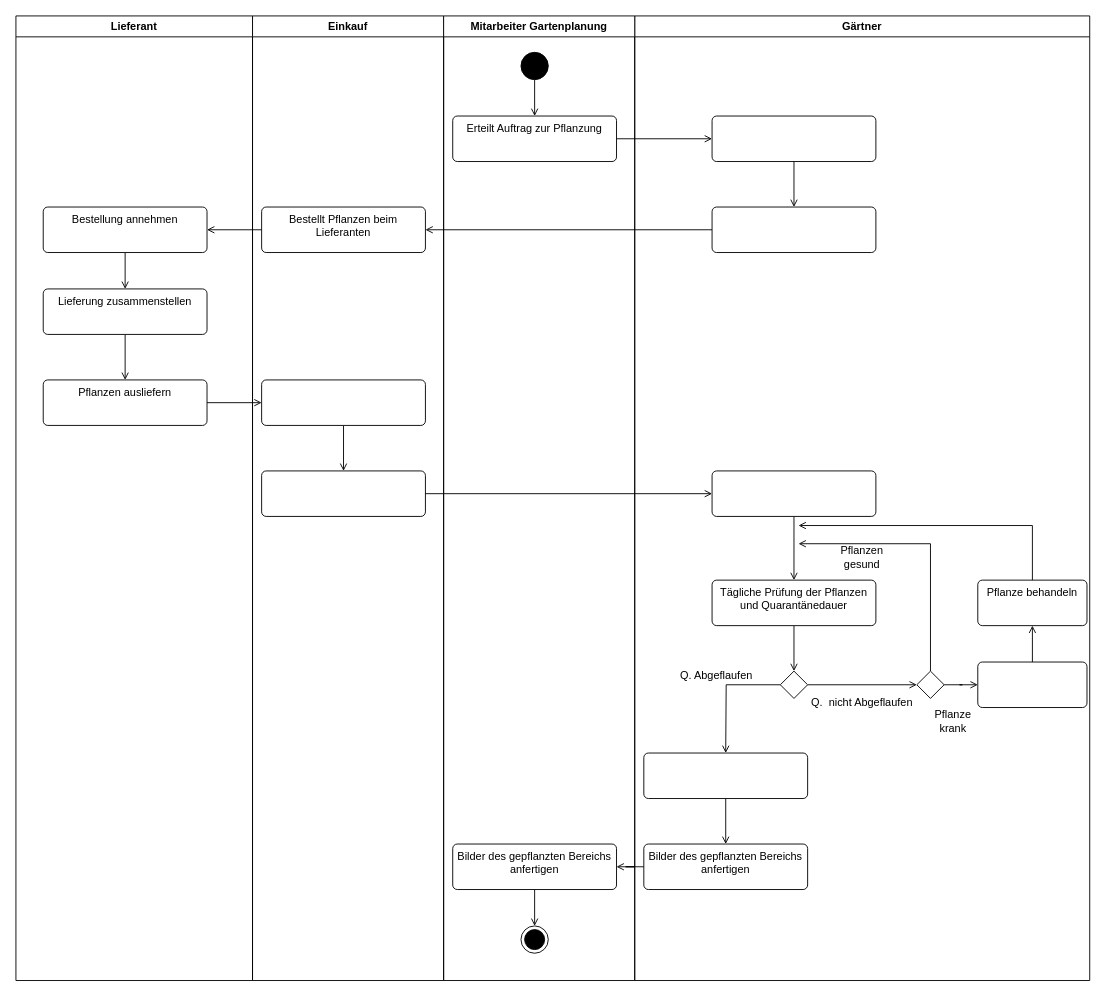
Some shapes in this 1106 by 996 pixel diagram are drawn without their labels. Each missing label, with the centre of its shape:
Pflanzen einpflanzen: the point at 725,775
Pflanzen zur Quarantänestation bringen.: the point at 793,493
Pflanzenlieferung an Gärtner übergeben.: the point at 343,493
Pflanzenlieferung annehmen und Rechnunge bezahlen: the point at 343,402
Quarantäne verlängern: the point at 1032,684
Stellt Anforderungen zusammen.: the point at 793,138
Übergibt Liste mit benötigten Pflanzen an Einkauf.: the point at 793,229
